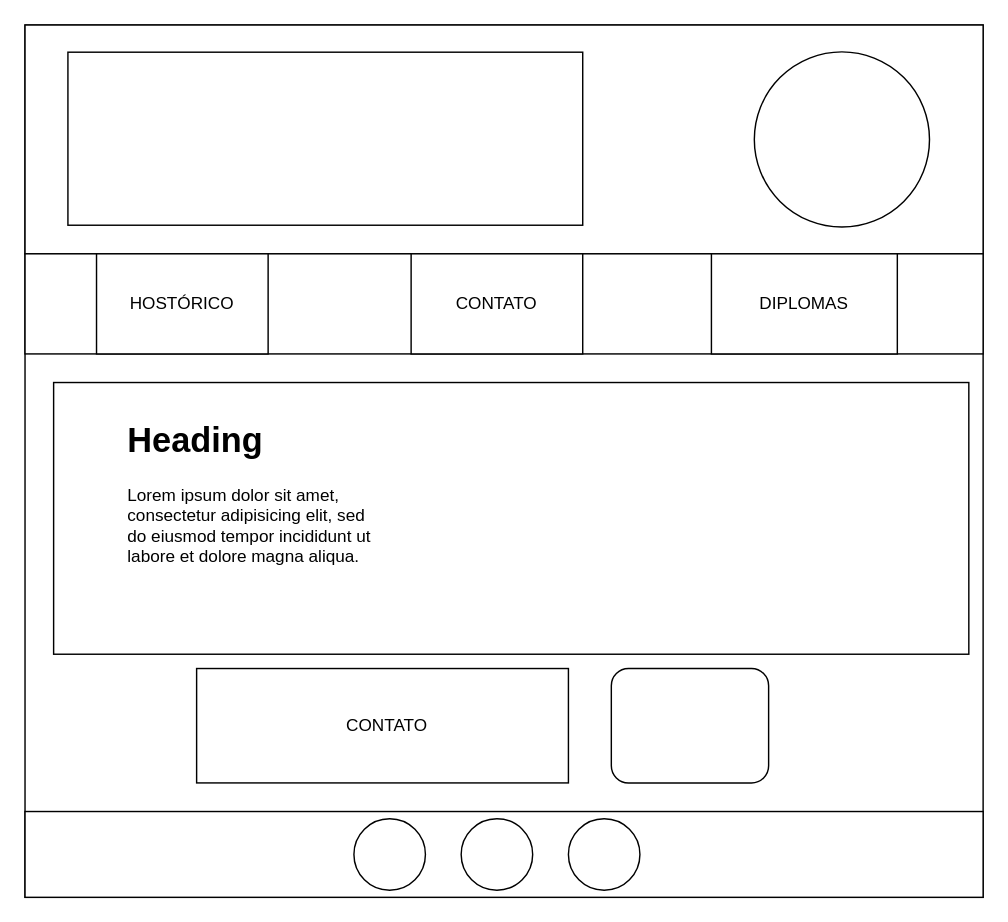
Some shapes in this 1008 by 922 pixel diagram are drawn without their labels. The box of each missing label's shape, as (x1, y1, x2, y2) in pixels:
FOTO: (753, 50, 930, 227)
MAPA: (610, 667, 769, 783)
NOME: (66, 51, 583, 225)
